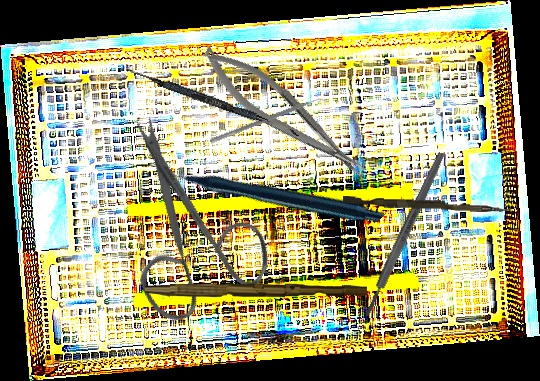Handpiece: (156, 73, 385, 307)
Iris Scissors: (58, 110, 305, 349)
Needle Holder: (193, 33, 373, 194)
Pusher: (342, 196, 512, 213)
Scalpel Handle: (361, 151, 448, 318), (144, 281, 368, 301)
Spatula Surgical: (126, 67, 302, 137), (209, 93, 327, 149)
